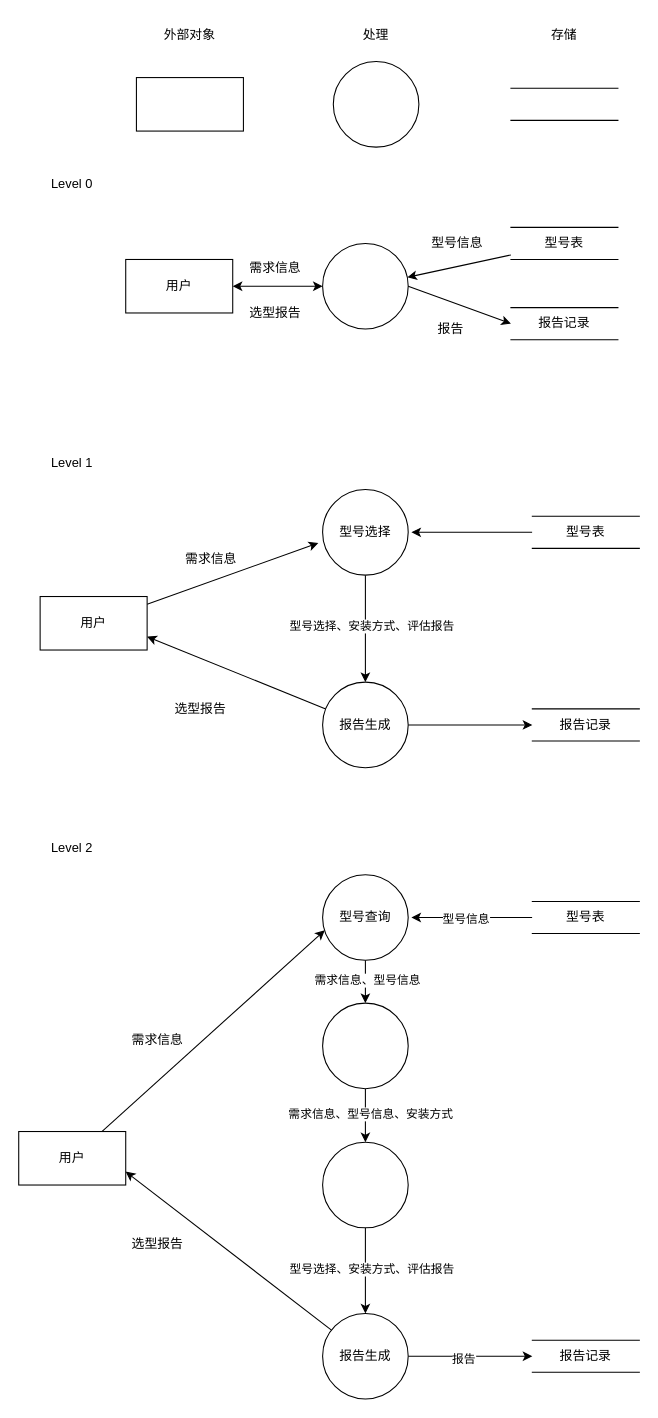
This 658x1418 diagram has some shape labels left out. The box of each missing label's shape, as (x1, y1, x2, y2) in pixels:
性能评估: (322, 1141, 408, 1228)
确定安装方式: (322, 1002, 408, 1089)
系统: (322, 242, 408, 329)
